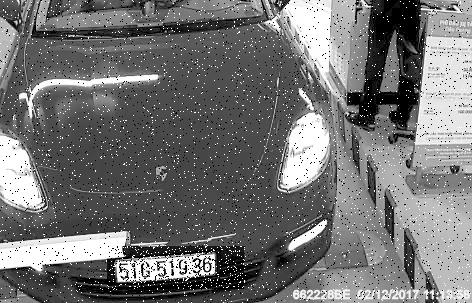License-plate: (109, 247, 247, 290)
